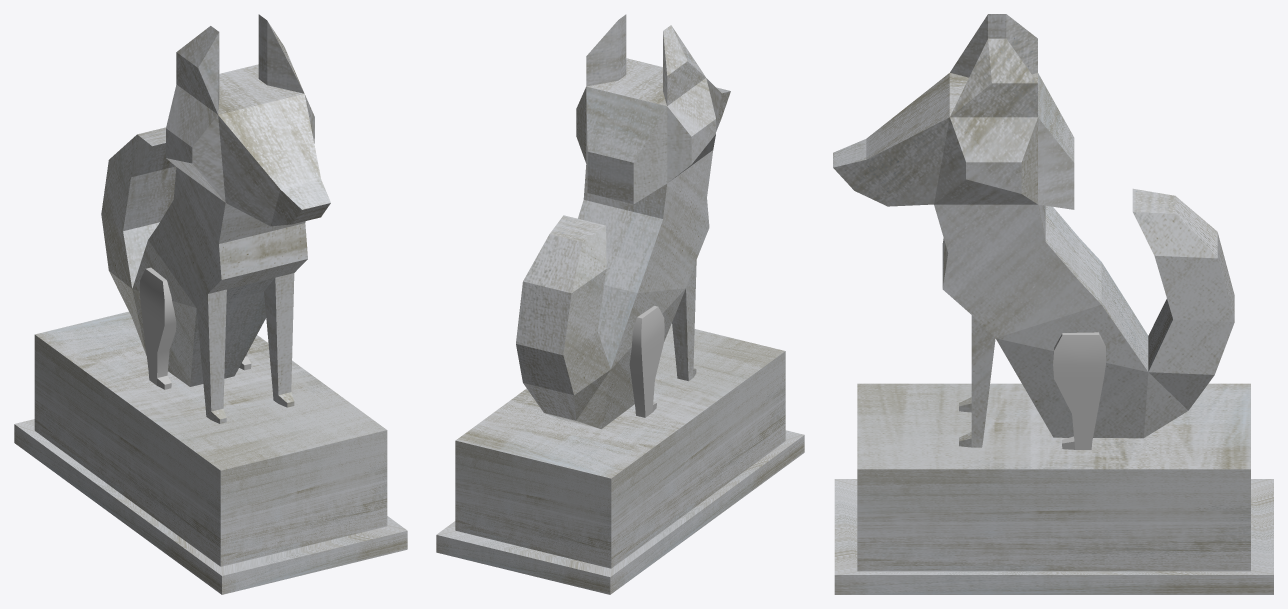
Rendered from kitsune 2.fbx.
3 renders of one model, left to right at view 1: azimuth 30°, elevation 25°; view 2: azimuth 150°, elevation 25°; view 3: azimuth 270°, elevation 25°, orthographic. The views are drawn at different scales.
Parts seen in each view (by area): view 1: Box013; view 2: Box013; view 3: Box013.
Part boxes in pixels (left/top/right/bottom): Box013: left=14, top=14, right=407, bottom=594; Box013: left=436, top=14, right=804, bottom=594; Box013: left=833, top=14, right=1273, bottom=594.
Size of the model in its own units: 11.44 by 29 by 22.24.
